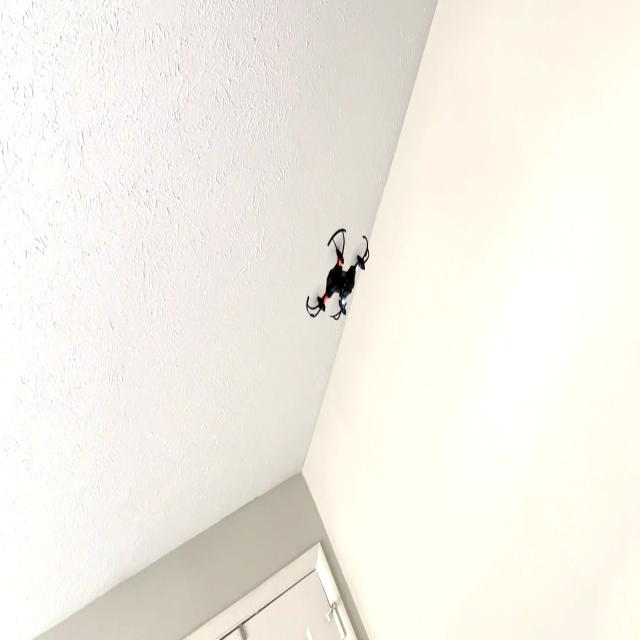drone: (301, 218, 372, 337)
